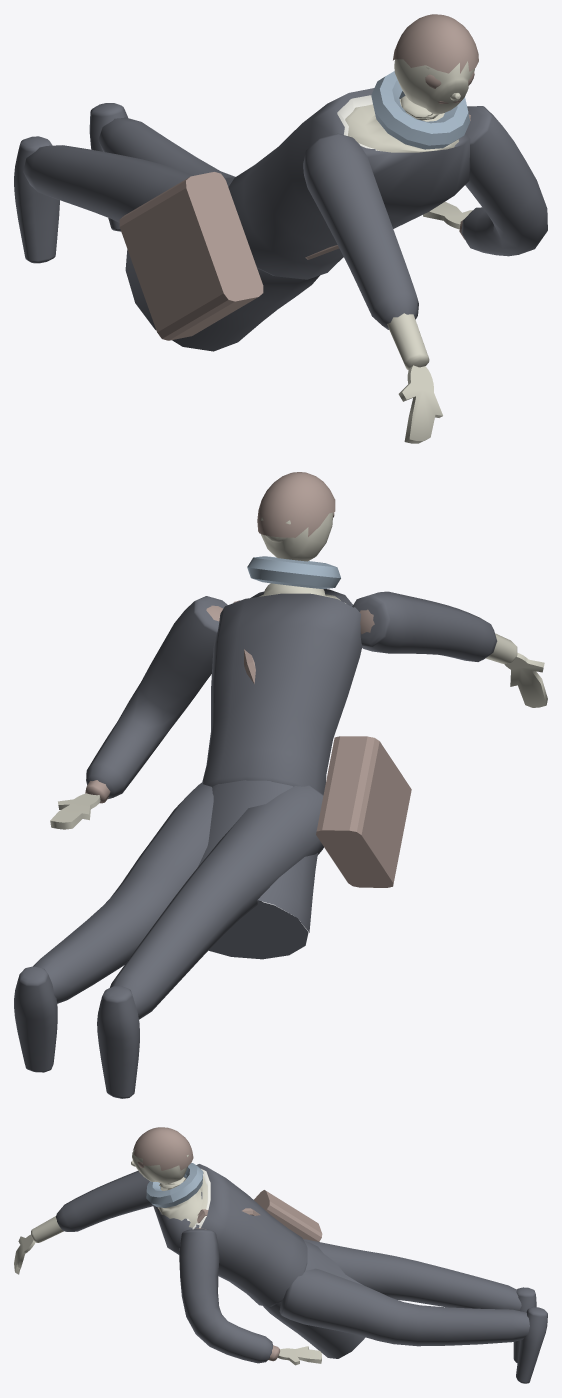
The model's file is undead-horde-and-infected-variants-walker-transit-comm-83ec930b__11995.glb.
The picture shows the model from 3 angles, top to bottom: view 1: azimuth 30°, elevation 25°; view 2: azimuth 150°, elevation 25°; view 3: azimuth 270°, elevation 25°; orthographic projection. The views are drawn at different scales.
Parts seen in each view (by area): view 1: walker-transit-commuter-rising; view 2: walker-transit-commuter-rising; view 3: walker-transit-commuter-rising.
Boxes of the visible parts, bbox=[...] form: walker-transit-commuter-rising: bbox=[14, 14, 547, 443]; walker-transit-commuter-rising: bbox=[14, 472, 547, 1098]; walker-transit-commuter-rising: bbox=[14, 1127, 547, 1383].
Size of the model in its own units: 0.8421 by 1.01 by 1.86.
